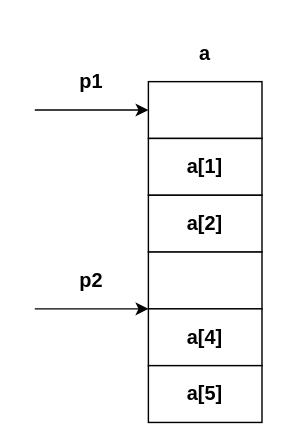
Some shapes in this 287 by 447 pixel diagram are drawn without their labels. The centre of each missing label's shape, as x and y in pixels:
"a[0]" belongs at [204,109].
"a[3]" belongs at [204,280].
